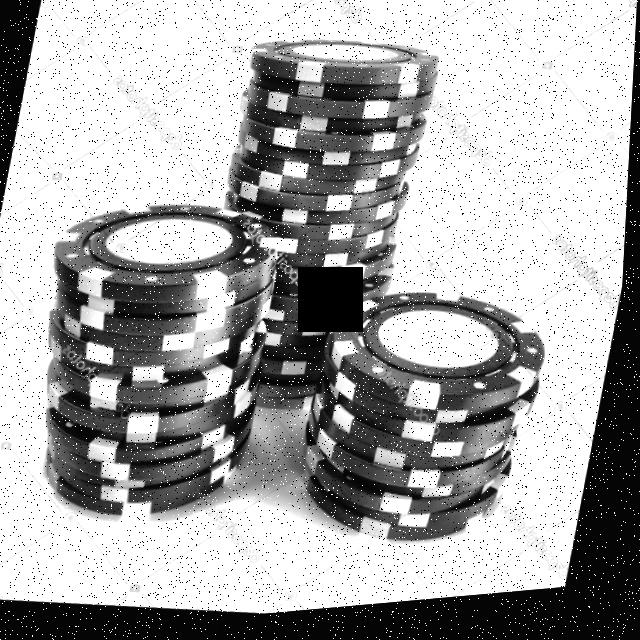Chip: (171, 15, 461, 446), (3, 175, 298, 549), (287, 272, 568, 578)
